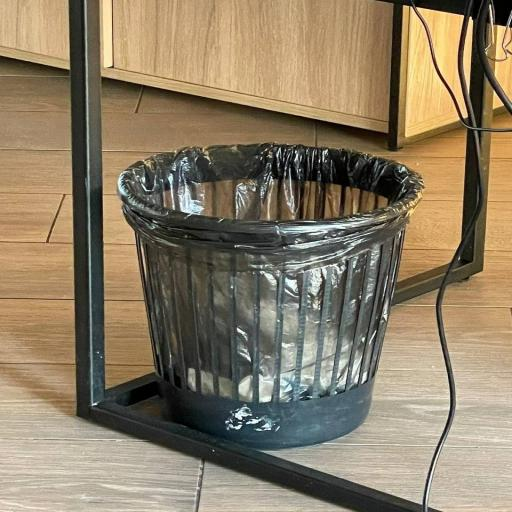traffic_light: (118, 143, 422, 449)
